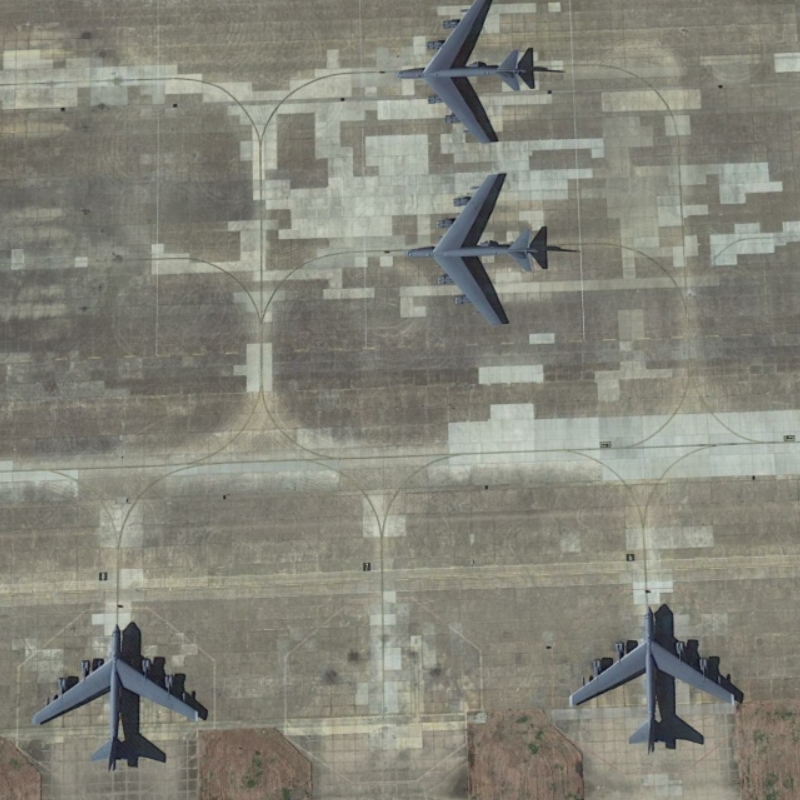A8: (23, 611, 204, 772), (564, 596, 739, 762), (401, 166, 546, 335), (390, 1, 532, 149)
